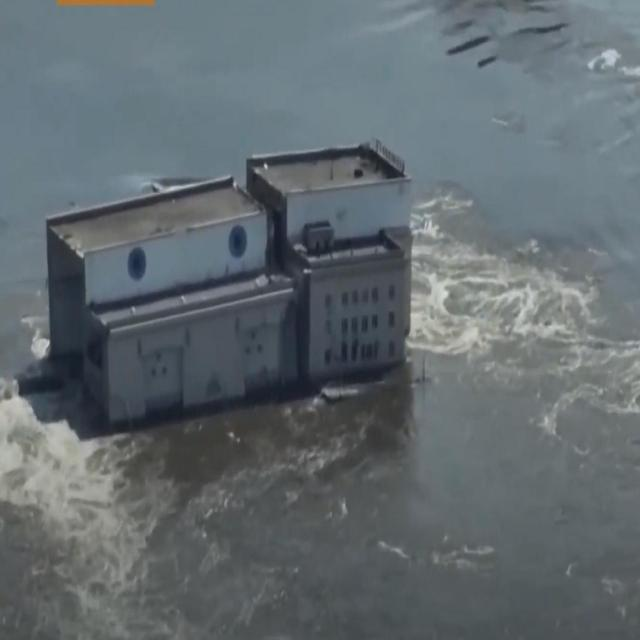flood: (0, 188, 640, 639), (0, 0, 640, 373)
house: (43, 133, 414, 430)
